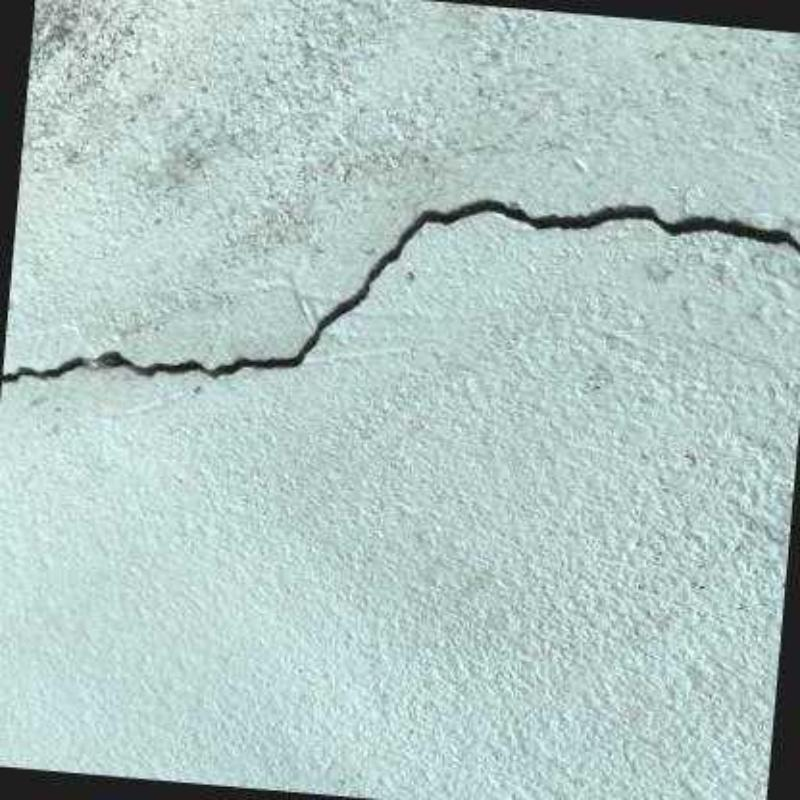pothole: (0, 196, 800, 384)
